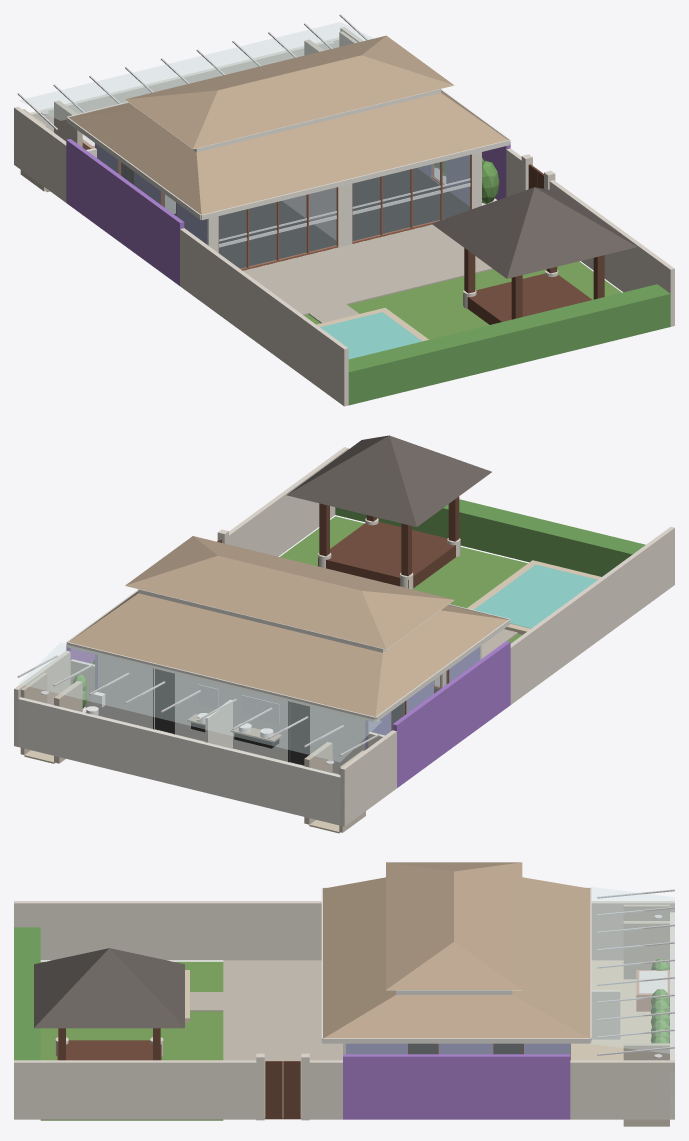
The model's file is villa.glb.
3 renders of one model, top to bottom at view 1: azimuth 30°, elevation 25°; view 2: azimuth 150°, elevation 25°; view 3: azimuth 270°, elevation 25°, orthographic.
Parts seen in each view (by area): view 1: Крыша_нижний_скат, Крыша_верхний_ярус, Живая_изгородь, Кладка_перед_домом, Сала_крыша, Ограда_лево, Навес_стекло, Ограда_лево_у_дома, Раздвижные_двери_гостиная_стекло, Раздвижные_двери_спальня_стекло, Газон, Пол_гостиная (+18 smaller); view 2: Крыша_нижний_скат, Крыша_верхний_ярус, Ограда_санузлов, Навес_стекло, Сала_крыша, Ограда_лево, Живая_изгородь, Ограда_лево_у_дома, Сала_помост, Газон, Ограда_право_1, Бассейн_вода (+17 smaller); view 3: Крыша_нижний_скат, Крыша_верхний_ярус, Ограда_лево, Ограда_право_у_дома, Ограда_право_1, Навес_стекло, Сала_крыша, Кладка_перед_домом, Ограда_право_санузел, Газон, Живая_изгородь, Пол_санузлы_центр (+22 smaller).
Part boxes in pixels (box(x1,y1,x2,y2)): Крыша_нижний_скат: box(68, 91, 507, 214); Крыша_верхний_ярус: box(125, 35, 454, 148); Живая_изгородь: box(348, 284, 670, 405); Кладка_перед_домом: box(243, 224, 492, 315); Сала_крыша: box(432, 187, 636, 278); Ограда_лево: box(180, 228, 348, 406); Навес_стекло: box(19, 22, 373, 120); Ограда_лево_у_дома: box(66, 139, 184, 285); Раздвижные_двери_гостиная_стекло: box(353, 155, 470, 241); Раздвижные_двери_спальня_стекло: box(219, 187, 336, 268); Газон: box(304, 261, 621, 339); Пол_гостиная: box(352, 168, 469, 240); Крыша_нижний_скат: box(69, 591, 507, 716); Крыша_верхний_ярус: box(125, 536, 453, 649); Ограда_санузлов: box(14, 697, 345, 826); Навес_стекло: box(19, 643, 381, 761); Сала_крыша: box(286, 435, 491, 526); Ограда_лево: box(510, 527, 674, 704); Живая_изгородь: box(335, 499, 645, 576); Ограда_лево_у_дома: box(392, 641, 510, 787); Сала_помост: box(318, 522, 455, 588); Газон: box(280, 516, 527, 643); Ограда_право_1: box(219, 447, 348, 556); Бассейн_вода: box(474, 564, 597, 628); Крыша_нижний_скат: box(323, 877, 590, 1038); Крыша_верхний_ярус: box(386, 862, 522, 989); Ограда_лево: box(14, 901, 321, 960); Ограда_право_у_дома: box(343, 1054, 570, 1119); Ограда_право_1: box(14, 1060, 256, 1119); Навес_стекло: box(590, 887, 674, 1053); Сала_крыша: box(34, 948, 184, 1028); Кладка_перед_домом: box(223, 960, 342, 1118); Ограда_право_санузел: box(570, 1060, 674, 1119); Газон: box(40, 961, 223, 1120); Живая_изгородь: box(14, 927, 40, 1060); Пол_санузлы_центр: box(570, 979, 651, 1060).
Size of what is drawn, in the model's own units: 11.55 by 4.75 by 19.9.
